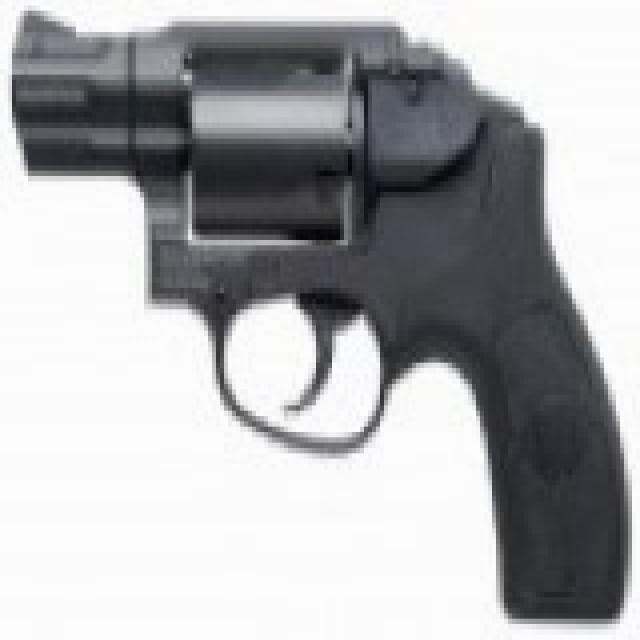pistol: (12, 6, 636, 614)
